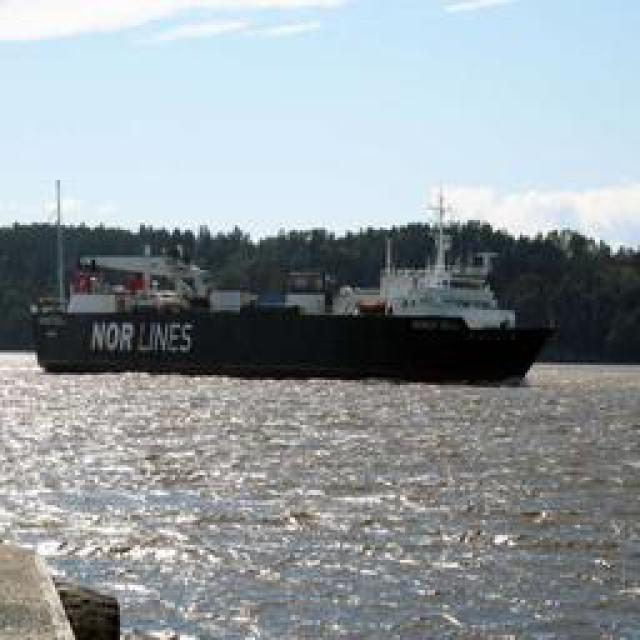Ship: (46, 246, 549, 384)
